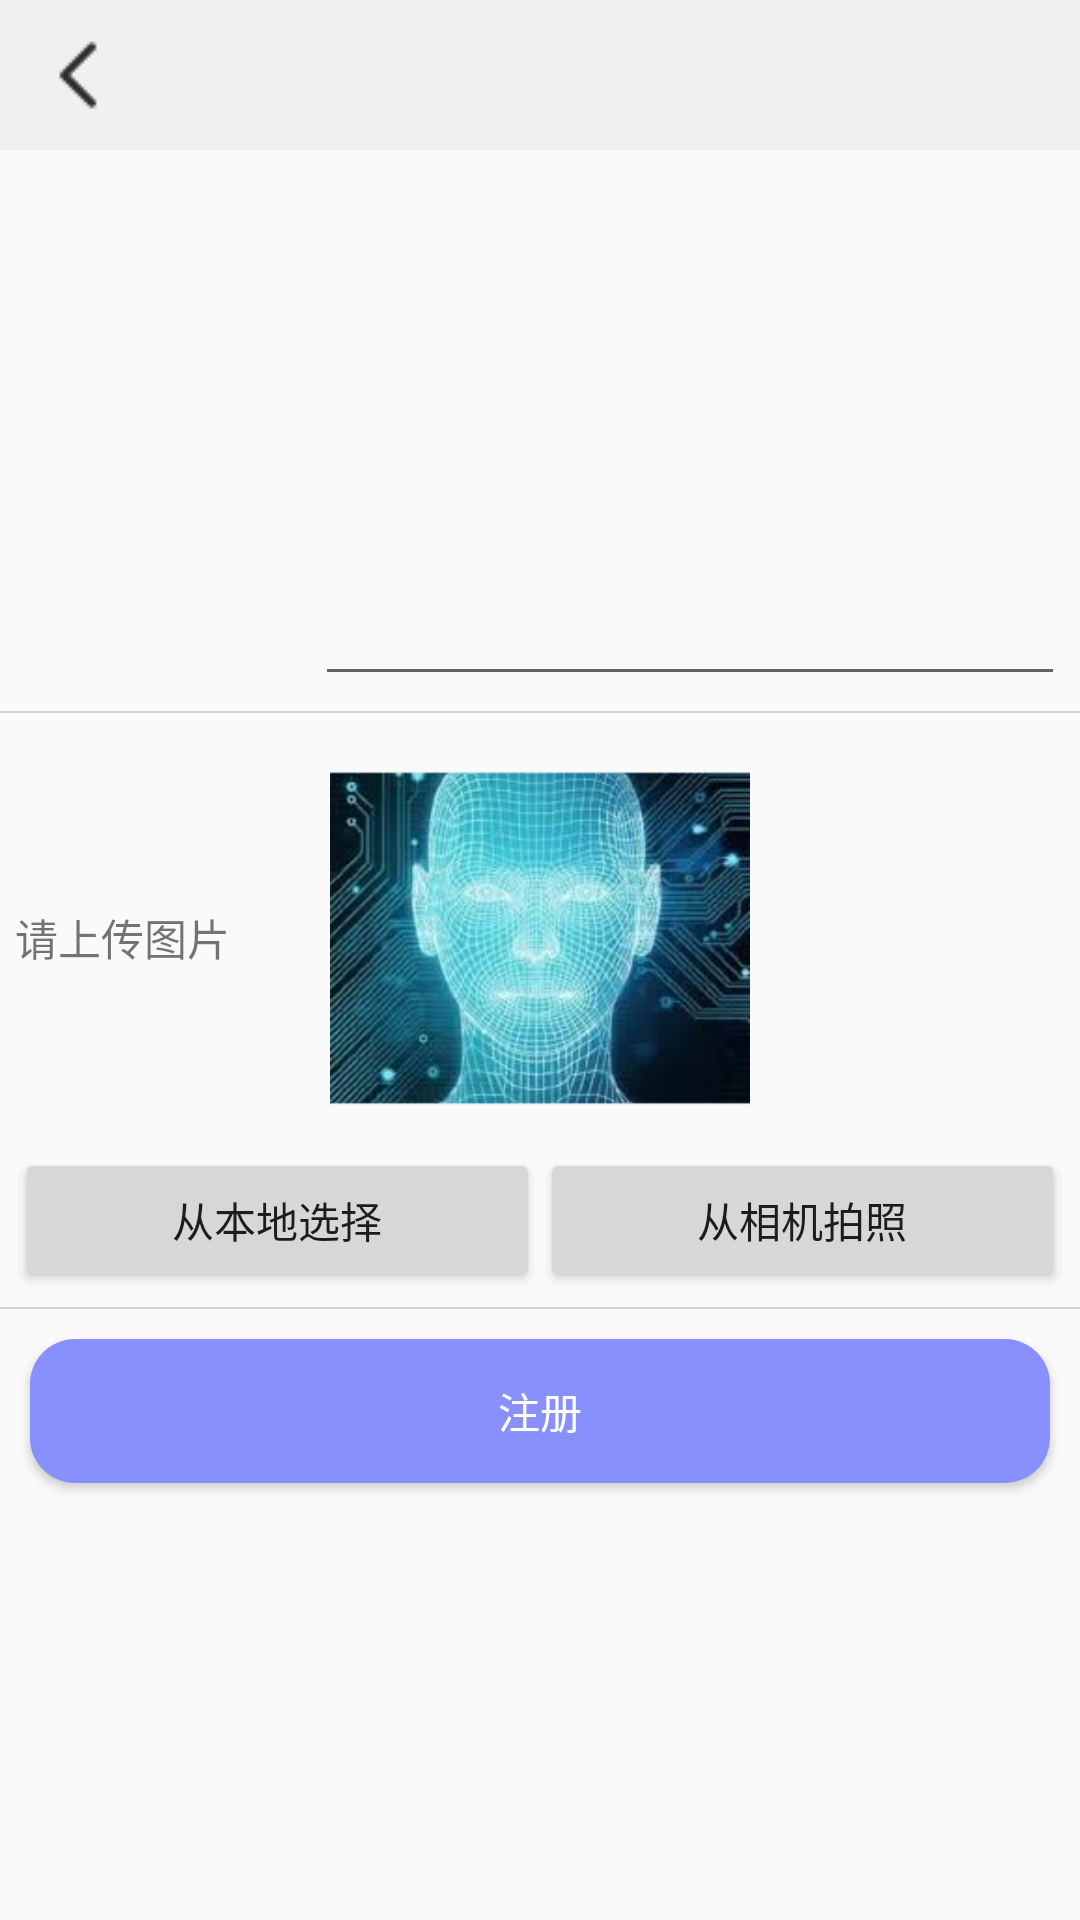

Screen size 1080px x 1920px. Icon name, then its box in pixels as (x1, y1, x2, y2):
back: (59, 41, 97, 109)
